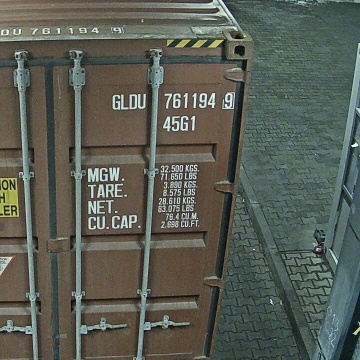serial_id: (112, 93, 233, 109)
